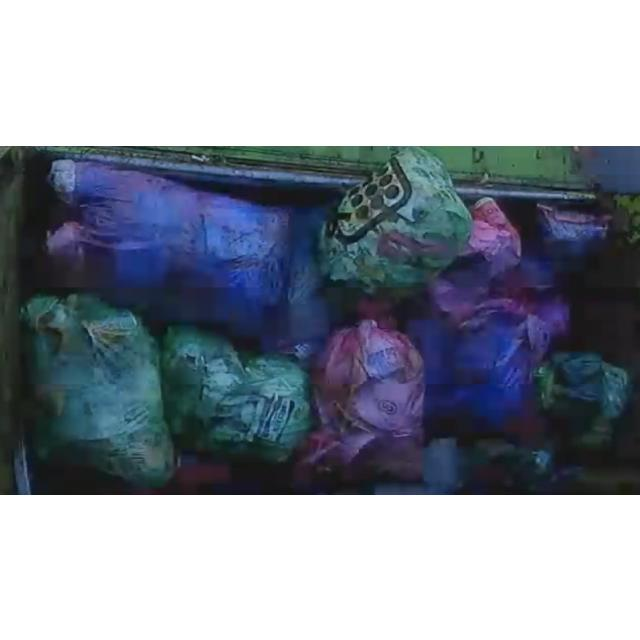general_trashbag: (21, 294, 174, 486), (326, 145, 471, 285), (162, 326, 310, 450)
other_trashbag: (36, 159, 325, 336), (308, 319, 425, 480)
